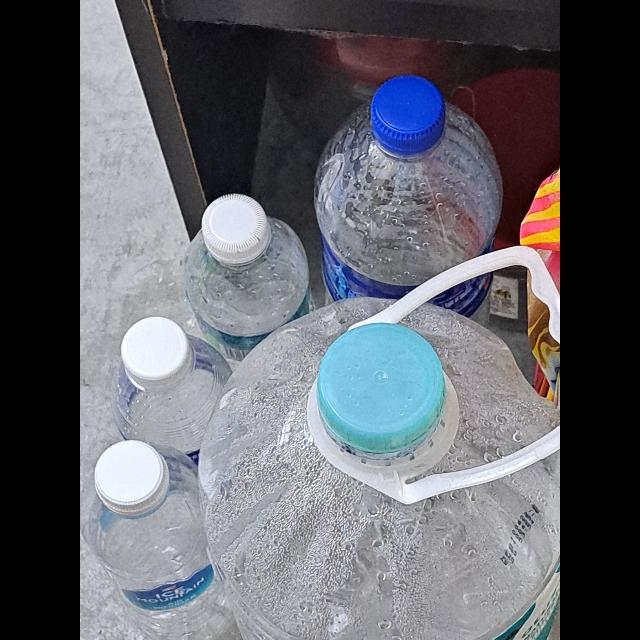garrafa plástica: (200, 290, 560, 640), (309, 71, 507, 331), (84, 450, 232, 640), (168, 213, 322, 369), (108, 343, 255, 472)
tampa plástica: (306, 320, 454, 468), (372, 74, 446, 154), (120, 316, 196, 392), (96, 438, 172, 514), (198, 190, 270, 264)
